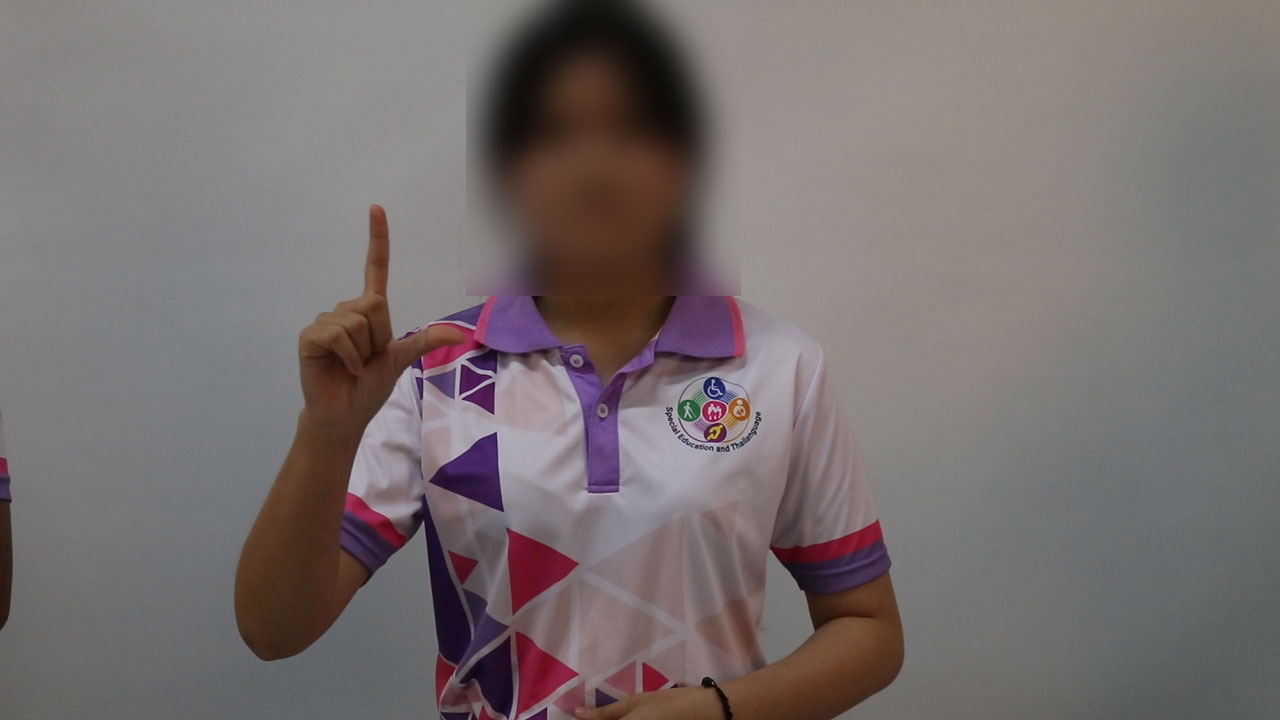lor: (286, 188, 472, 444)
